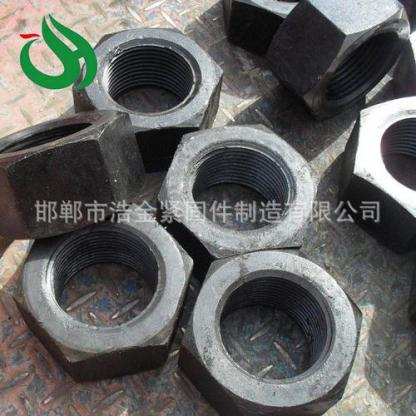FOD: (8, 196, 195, 384), (178, 246, 365, 415), (154, 124, 319, 263), (0, 107, 148, 241), (74, 23, 223, 151), (262, 0, 415, 117), (337, 85, 415, 257)
